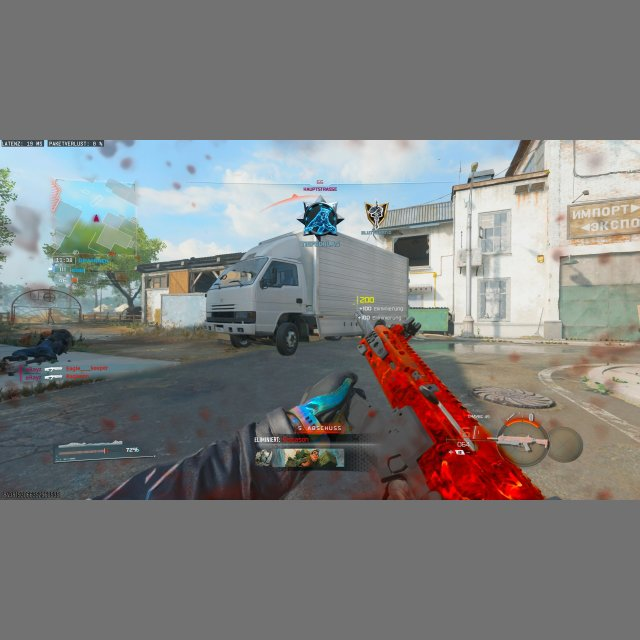player: (300, 199, 344, 236)
